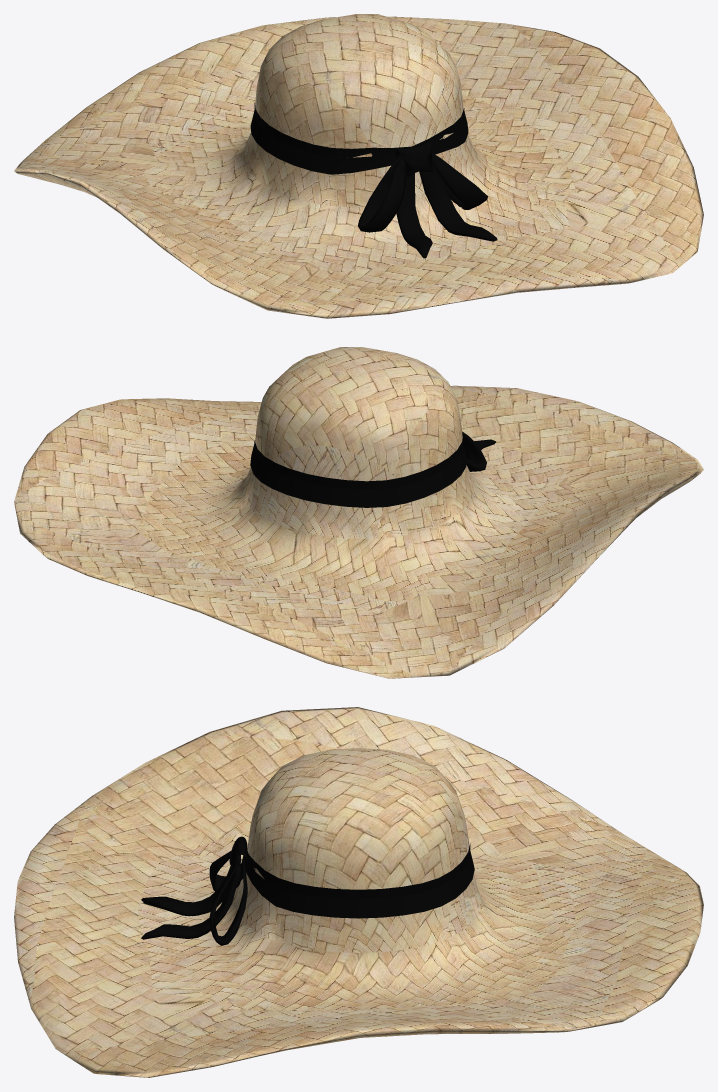
The model's file is outfit_straw_hat.glb.
3 renders of one model, top to bottom at view 1: azimuth 30°, elevation 25°; view 2: azimuth 150°, elevation 25°; view 3: azimuth 270°, elevation 25°, orthographic. The views are drawn at different scales.
Parts seen in each view (by area): view 1: outfit_straw_hat; view 2: outfit_straw_hat; view 3: outfit_straw_hat.
Boxes of the visible parts, x1=… form: outfit_straw_hat: x1=14, y1=14, x2=703, y2=318; outfit_straw_hat: x1=14, y1=347, x2=703, y2=678; outfit_straw_hat: x1=14, y1=707, x2=703, y2=1077.
Bounding box in the file's own units: 0.9563 × 0.3 × 0.9511.
2 materials, 1 textured.
